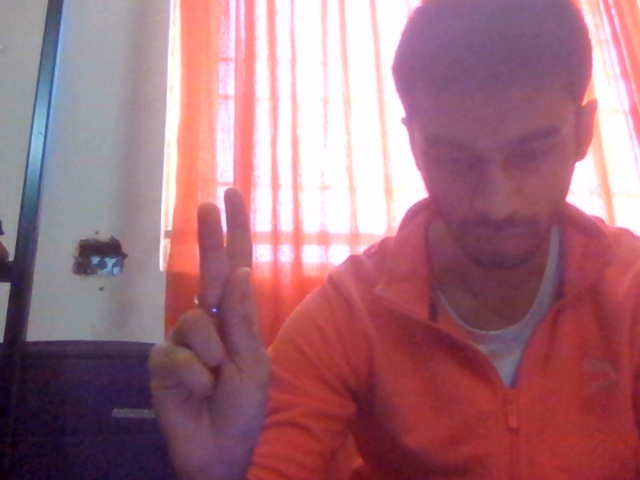K: (108, 158, 335, 480)
